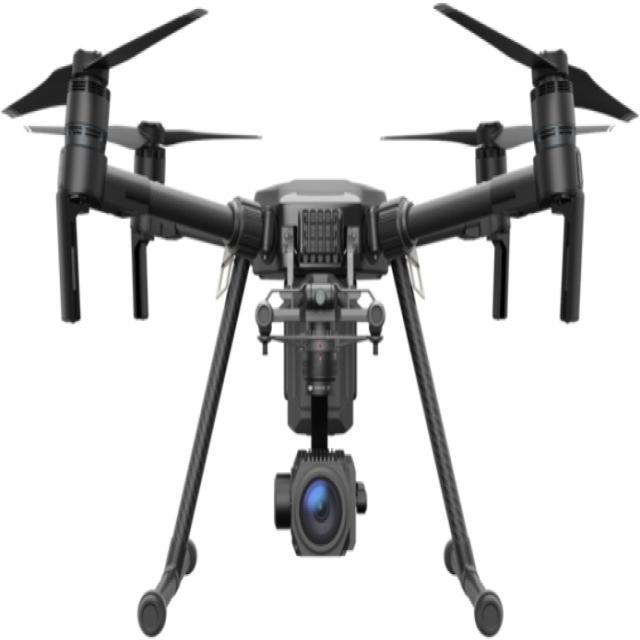drone: (9, 12, 634, 379)
